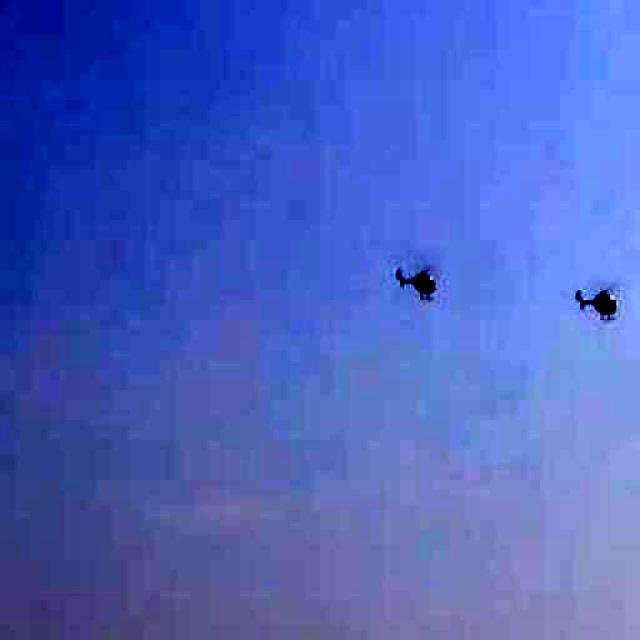drone: (556, 272, 640, 335), (379, 255, 455, 312)
